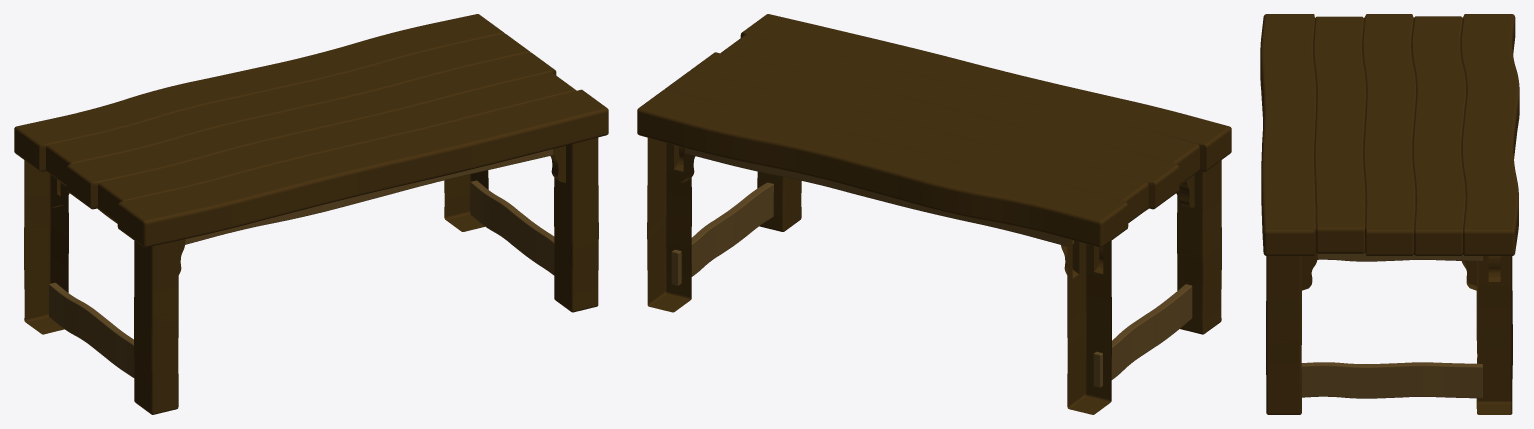
The model's file is TI_Table.obj.
3 renders of one model, left to right at view 1: azimuth 30°, elevation 25°; view 2: azimuth 150°, elevation 25°; view 3: azimuth 270°, elevation 25°, orthographic. The views are drawn at different scales.
Parts seen in each view (by area): view 1: Куб.007; view 2: Куб.007; view 3: Куб.007.
Part boxes in pixels (x1,y1,x2,y2): Куб.007: (14, 14, 608, 414); Куб.007: (637, 14, 1231, 414); Куб.007: (1260, 14, 1519, 414).
Bounding box in the file's own units: 8.6 × 3.48 × 4.33.
Materials: 1 (1 with a texture image).
